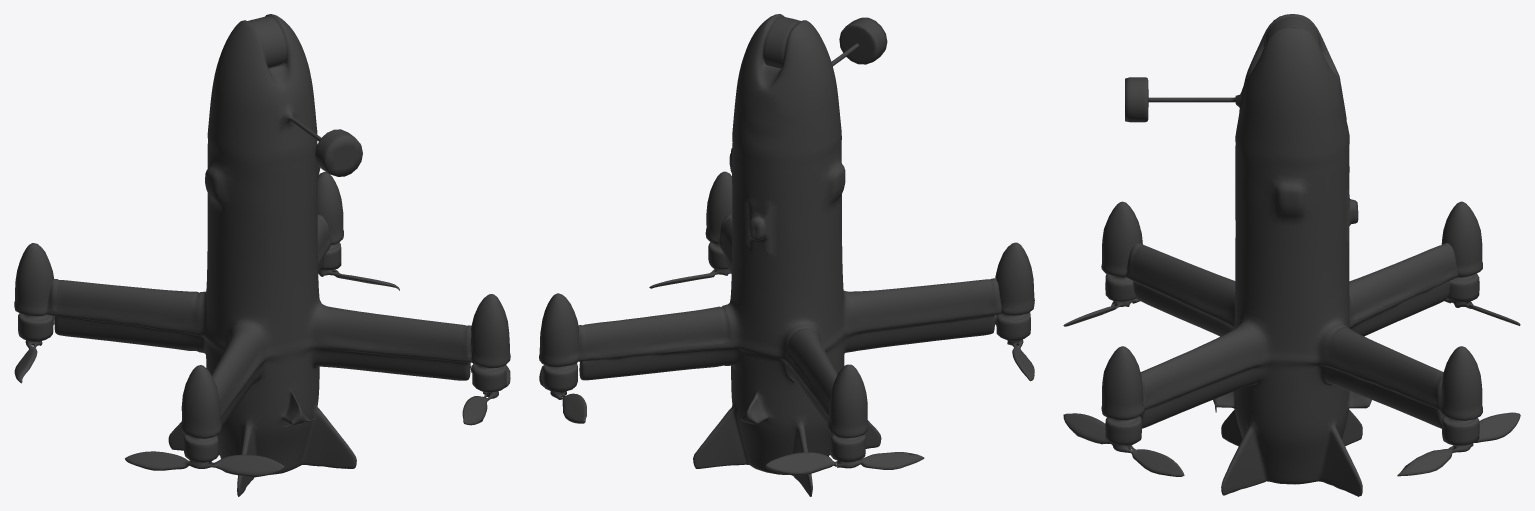
The model's file is sky.glb.
3 renders of one model, left to right at view 1: azimuth 30°, elevation 25°; view 2: azimuth 150°, elevation 25°; view 3: azimuth 270°, elevation 25°, orthographic.
Parts seen in each view (by area): view 1: root.0; view 2: root.0; view 3: root.0.
Part boxes in pixels (bbox=[...]): root.0: bbox=[14, 14, 510, 496]; root.0: bbox=[539, 14, 1034, 496]; root.0: bbox=[1063, 14, 1520, 496].
Bounding box in the file's own units: 1.72 × 1.9 × 1.76.
1 material, 1 textured.
